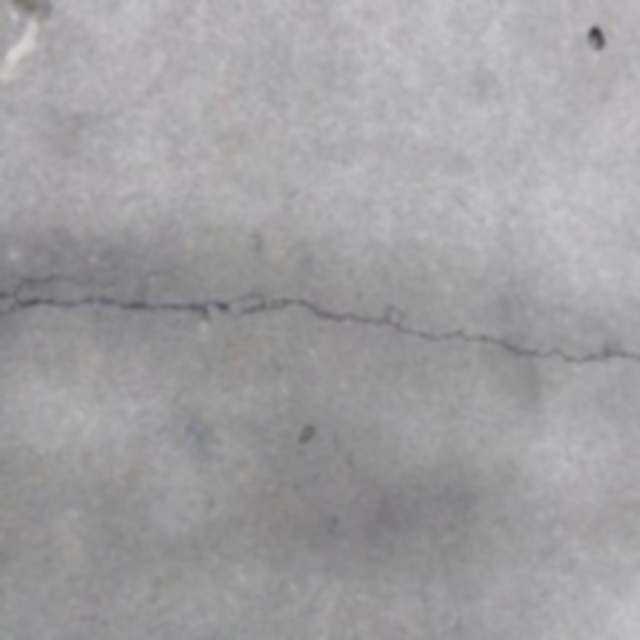SurfaceCrack: (2, 248, 640, 390)
